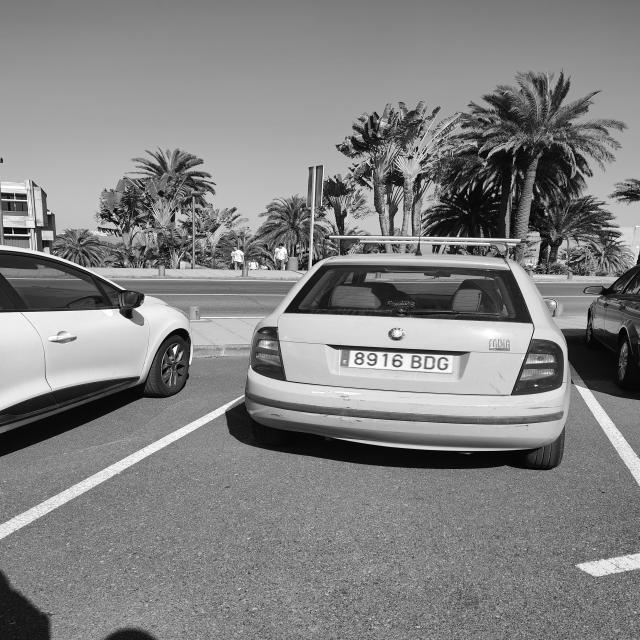License-Plate: (339, 349, 454, 375)
